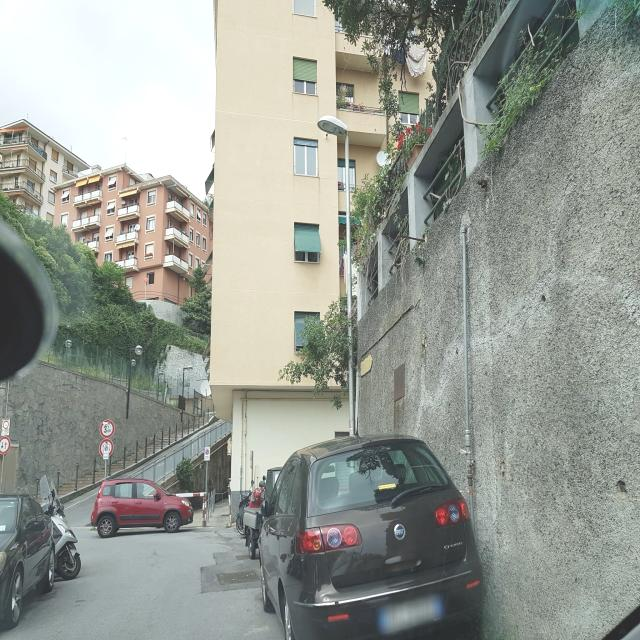bike: (40, 494, 81, 580)
car: (258, 432, 486, 640), (0, 490, 56, 632), (90, 476, 194, 538), (242, 483, 268, 555)
